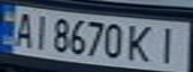0: (103, 20, 127, 60)
6: (66, 17, 87, 56)
7: (84, 19, 106, 57)
8: (48, 15, 72, 53)
A: (9, 9, 39, 48)
I: (151, 24, 187, 65), (27, 11, 51, 50)
K: (124, 21, 157, 64)
